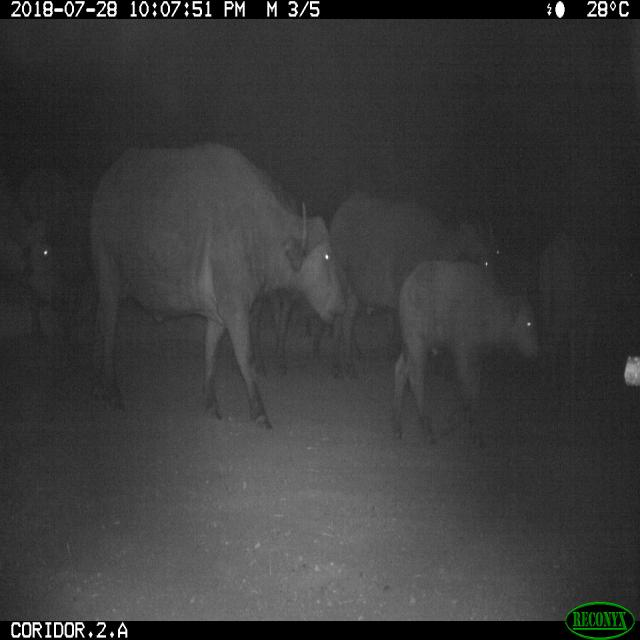buffalo: (74, 140, 333, 420), (195, 189, 425, 437)
